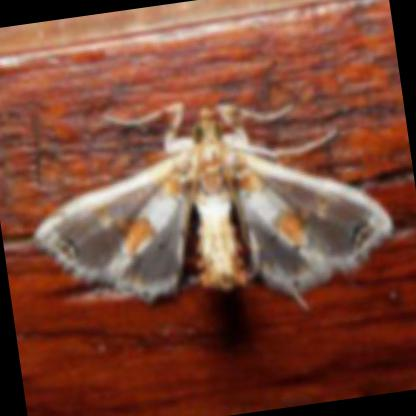leucinodes: (33, 110, 392, 301)
